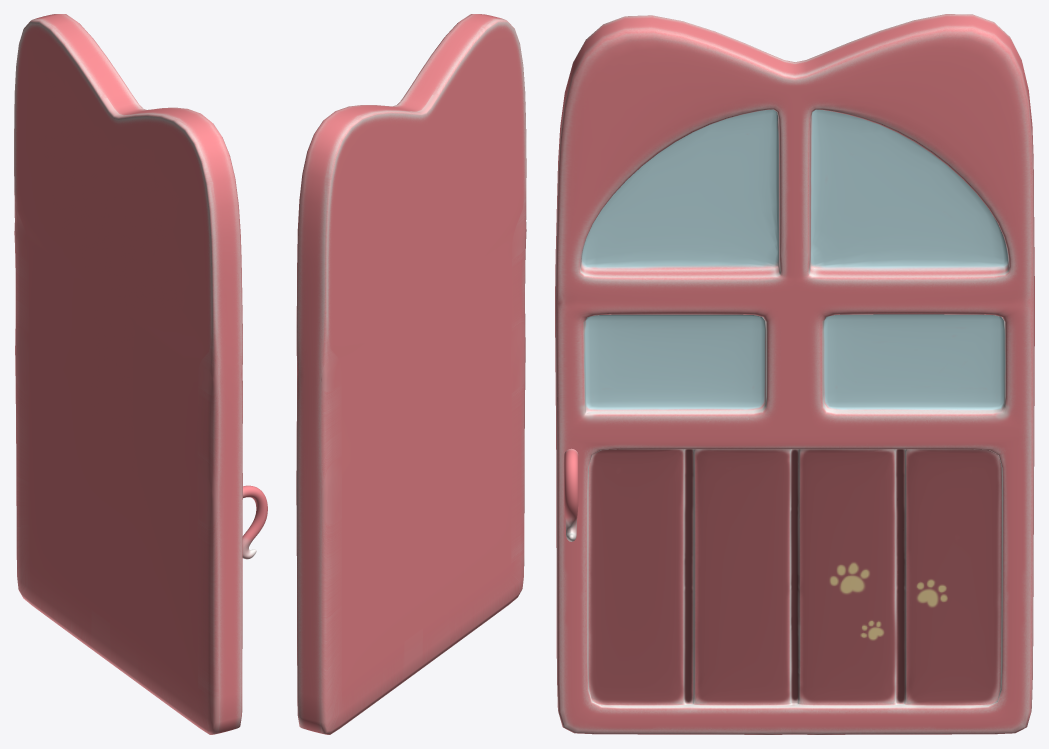
File: MODEL_Door.fbx
The picture shows the model from 3 angles, left to right: view 1: azimuth 30°, elevation 25°; view 2: azimuth 150°, elevation 25°; view 3: azimuth 270°, elevation 25°; orthographic projection. The views are drawn at different scales.
Parts seen in each view (by area): view 1: Door.004; view 2: Door.004; view 3: Door.004.
Part boxes in pixels (bbox=[...]): Door.004: bbox=[14, 14, 267, 734]; Door.004: bbox=[296, 14, 526, 734]; Door.004: bbox=[555, 14, 1034, 734].
Bounding box in the file's own units: 26.71 × 255 × 157.
1 material, 1 textured.
